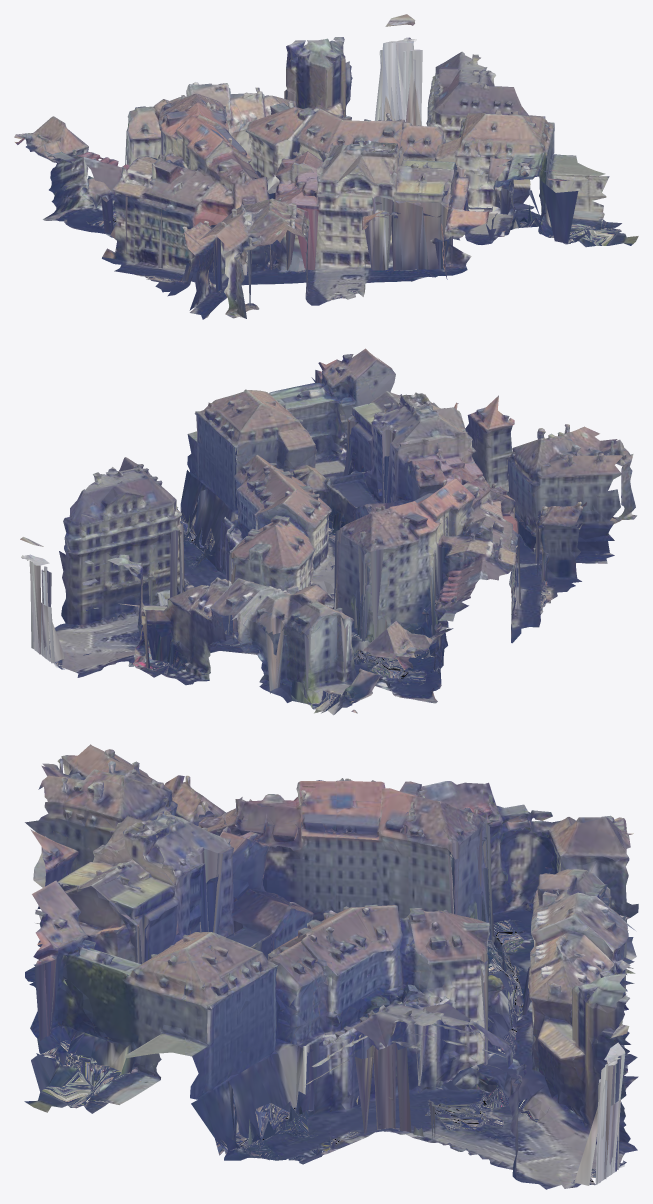
3 views of the same model, one above another, from view 1: azimuth 30°, elevation 25°; view 2: azimuth 150°, elevation 25°; view 3: azimuth 270°, elevation 25° (orthographic). The views are drawn at different scales.
Bounding box in the file's own units: 108 × 44.29 × 108.
1 material, 1 textured.
